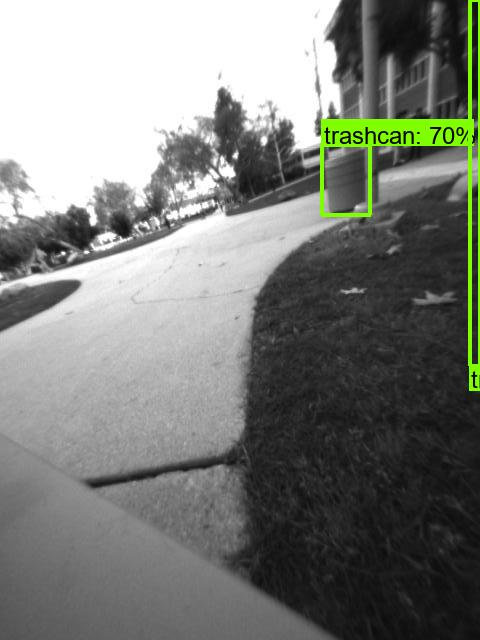trashcan: (320, 143, 377, 217)
